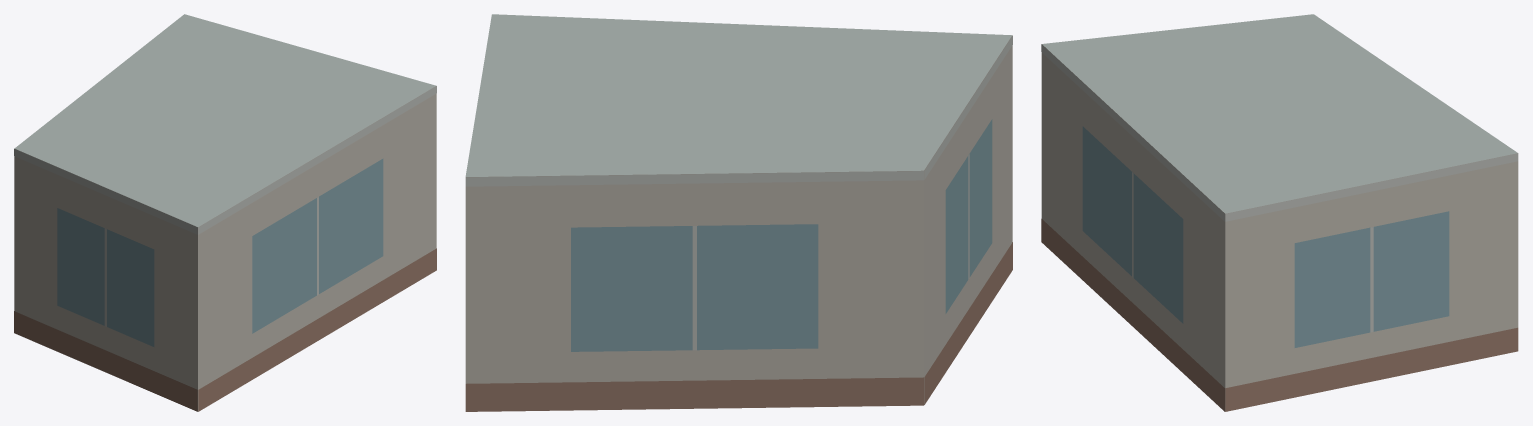
The model's file is survey-upis-32635051.glb.
3 views of the same model, side by side, from view 1: azimuth 30°, elevation 25°; view 2: azimuth 150°, elevation 25°; view 3: azimuth 270°, elevation 25° (orthographic). The views are drawn at different scales.
Visible parts, largest first — view 1: survey-upis-32635051.tmp; view 2: survey-upis-32635051.tmp; view 3: survey-upis-32635051.tmp.
Part boxes in pixels (bbox=[...]): survey-upis-32635051.tmp: bbox=[14, 14, 436, 411]; survey-upis-32635051.tmp: bbox=[465, 14, 1012, 411]; survey-upis-32635051.tmp: bbox=[1041, 14, 1518, 411].
Bounding box in the file's own units: 6.6 × 3.05 × 6.66.
